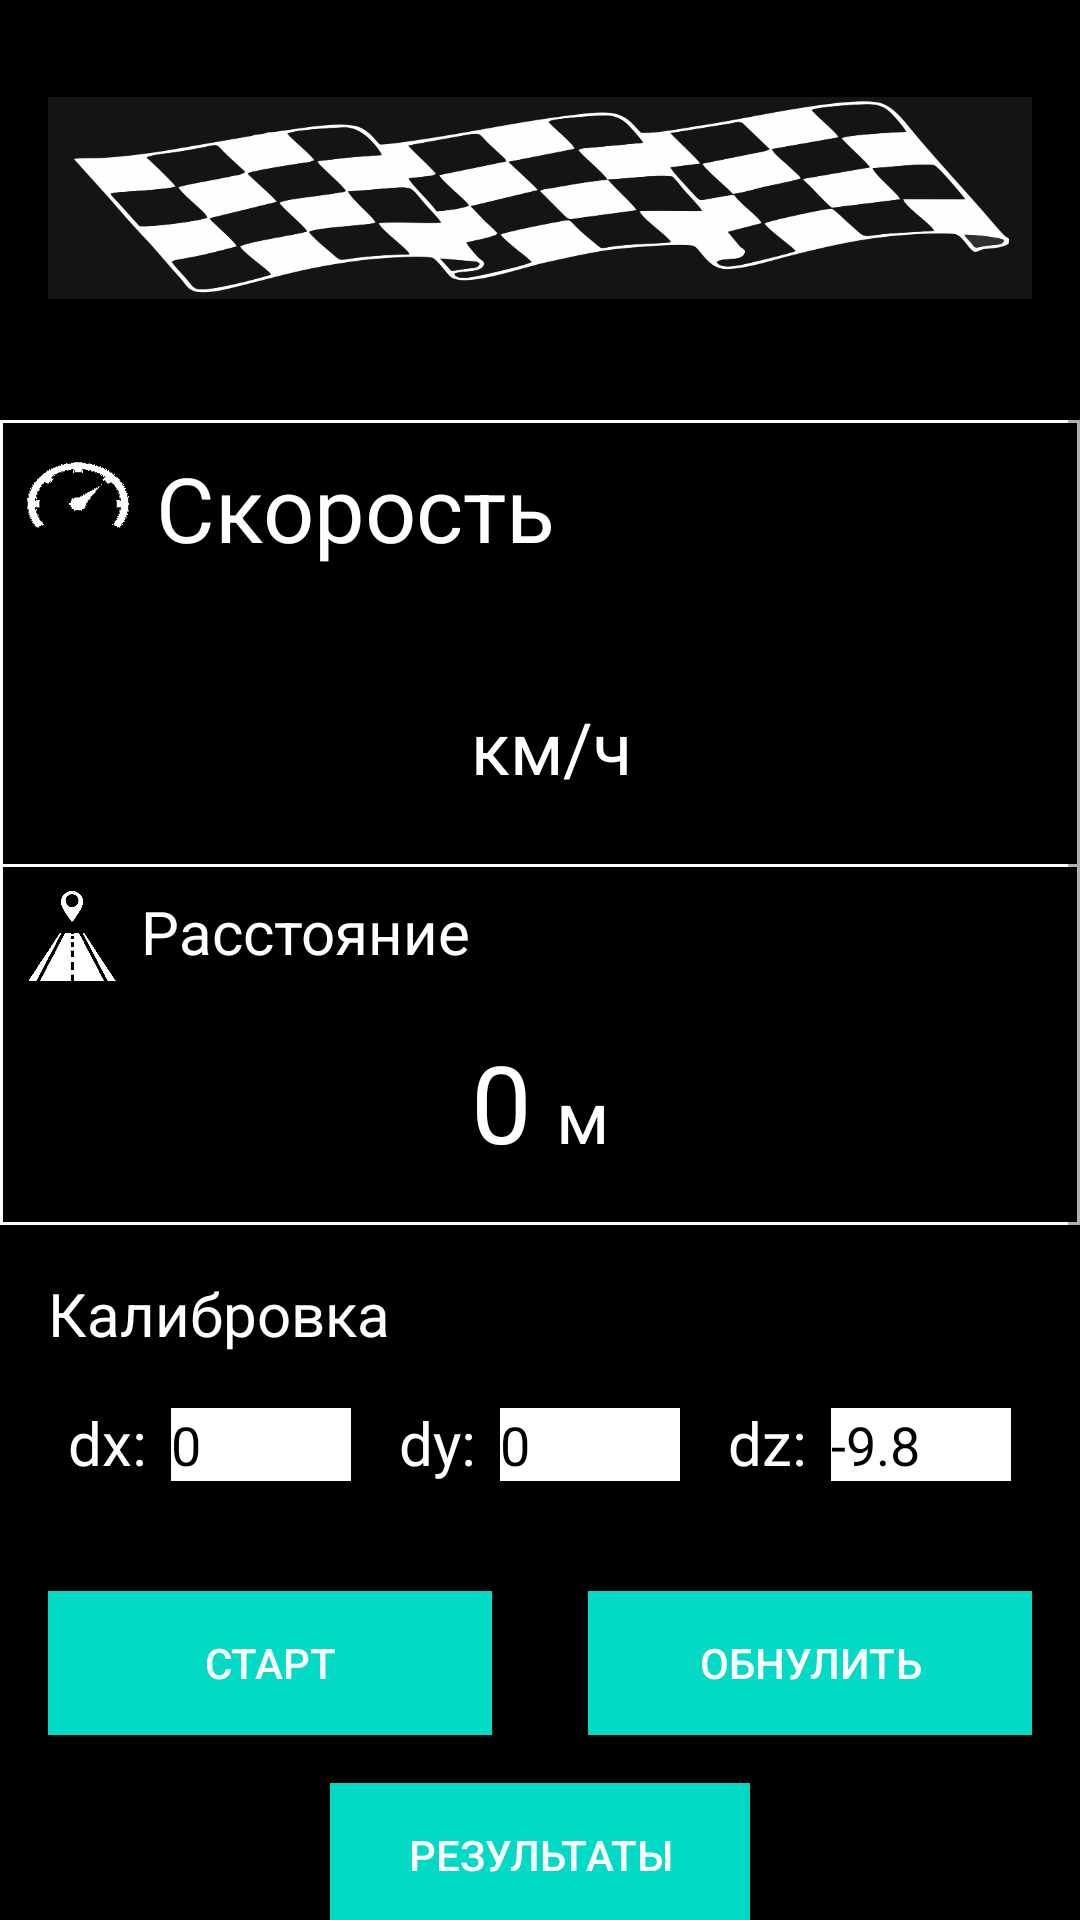

Where to tap for icons on this 1080x1920 app screen, as [x,y]:
distance: [72,936]
speed: [78,495]
